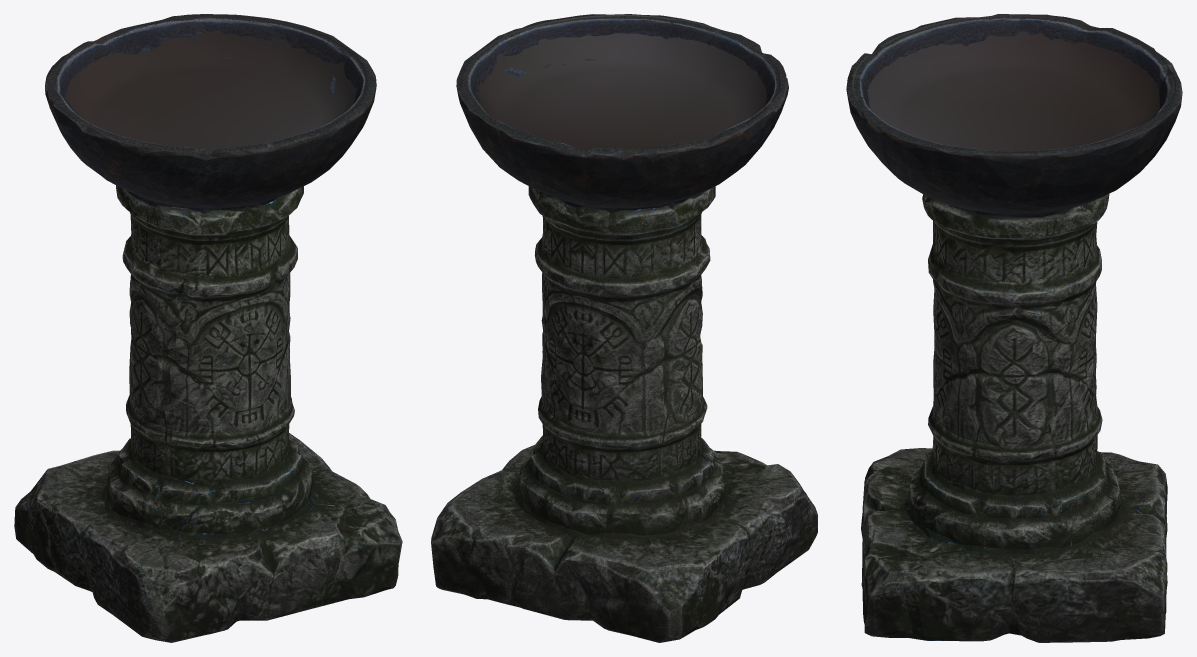
The model's file is brazier.glb.
3 renders of one model, left to right at view 1: azimuth 30°, elevation 25°; view 2: azimuth 150°, elevation 25°; view 3: azimuth 270°, elevation 25°, orthographic. The views are drawn at different scales.
Parts seen in each view (by area): view 1: lo; view 2: lo; view 3: lo.
Boxes of the visible parts, left/top/right/bottom form: lo: left=14, top=14, right=402, bottom=642; lo: left=431, top=14, right=817, bottom=642; lo: left=846, top=14, right=1182, bottom=642.
Size of the model in its own units: 0.6125 by 1 by 0.6107.
1 material, 1 textured.
